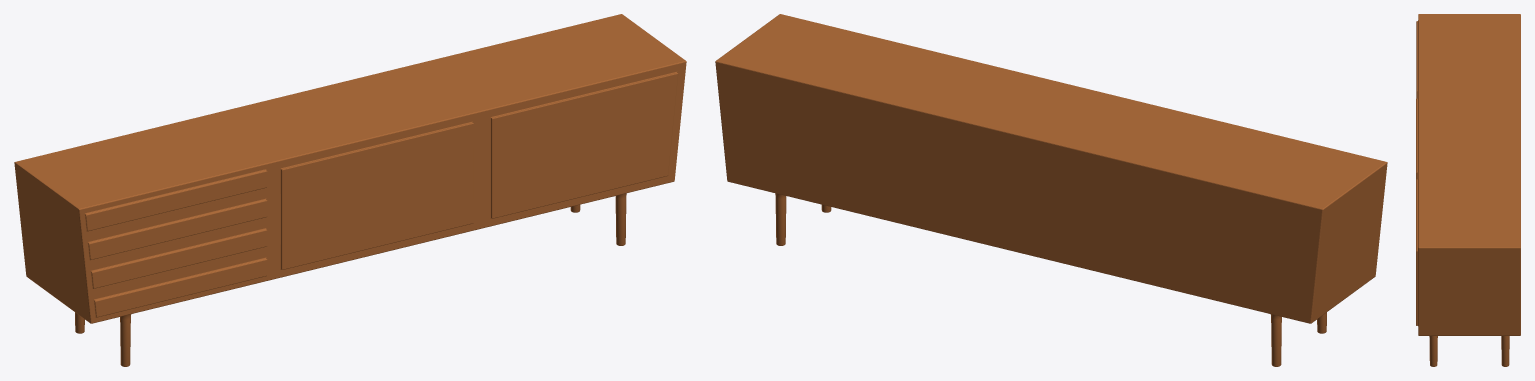
File: MesaTrofeus.fbx
The picture shows the model from 3 angles, left to right: view 1: azimuth 30°, elevation 25°; view 2: azimuth 150°, elevation 25°; view 3: azimuth 270°, elevation 25°; orthographic projection. The views are drawn at different scales.
Parts seen in each view (by area): view 1: MesaTrof, Cylinder.008; view 2: MesaTrof, Cylinder.008; view 3: MesaTrof, Cylinder.008.
Part boxes in pixels (x1,y1,x2,y2): MesaTrof: [14, 14, 686, 323]; Cylinder.008: [75, 193, 626, 366]; MesaTrof: [715, 14, 1387, 323]; Cylinder.008: [775, 193, 1326, 366]; MesaTrof: [1416, 14, 1520, 335]; Cylinder.008: [1429, 336, 1509, 366].
Bounding box in the file's own units: 1080 × 300 × 204.
